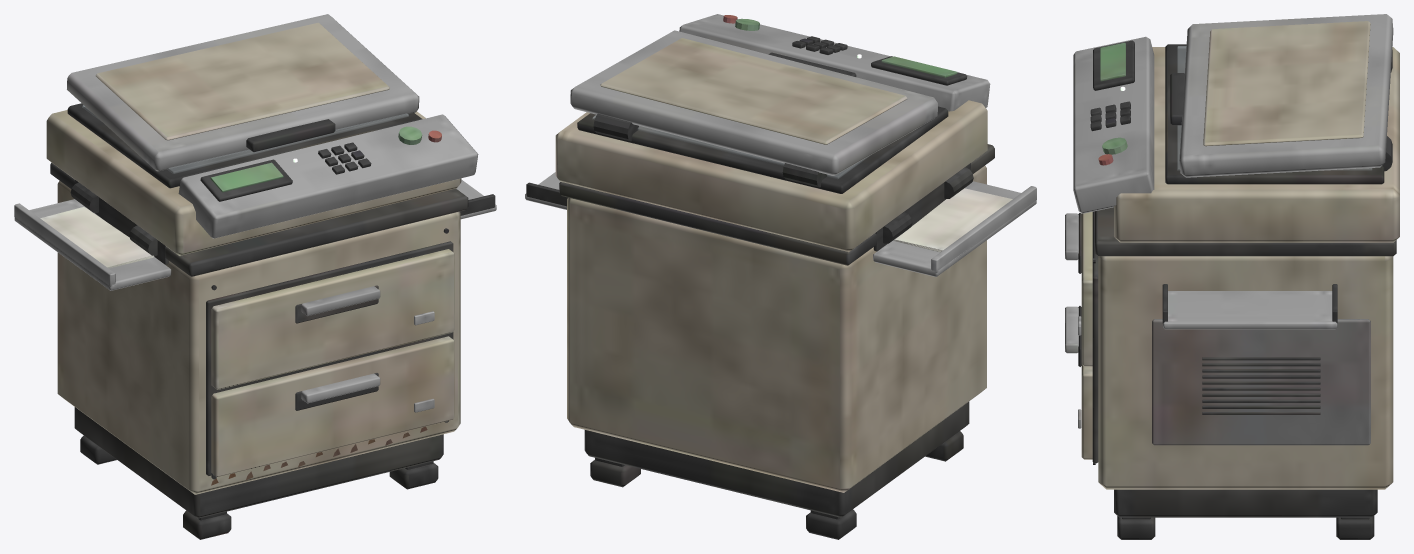
The model's file is O16_photocopier.glb.
3 views of the same model, side by side, from view 1: azimuth 30°, elevation 25°; view 2: azimuth 150°, elevation 25°; view 3: azimuth 270°, elevation 25° (orthographic). The views are drawn at different scales.
Parts seen in each view (by area): view 1: Rubber leveling foot; view 2: Rubber leveling foot; view 3: Rubber leveling foot.
Boxes of the visible parts, bbox=[...] form: Rubber leveling foot: bbox=[14, 14, 496, 539]; Rubber leveling foot: bbox=[525, 14, 1036, 539]; Rubber leveling foot: bbox=[1065, 14, 1399, 539].
Bounding box in the file's own units: 1.1 × 0.9972 × 0.7495.
12 materials, 10 textured.
